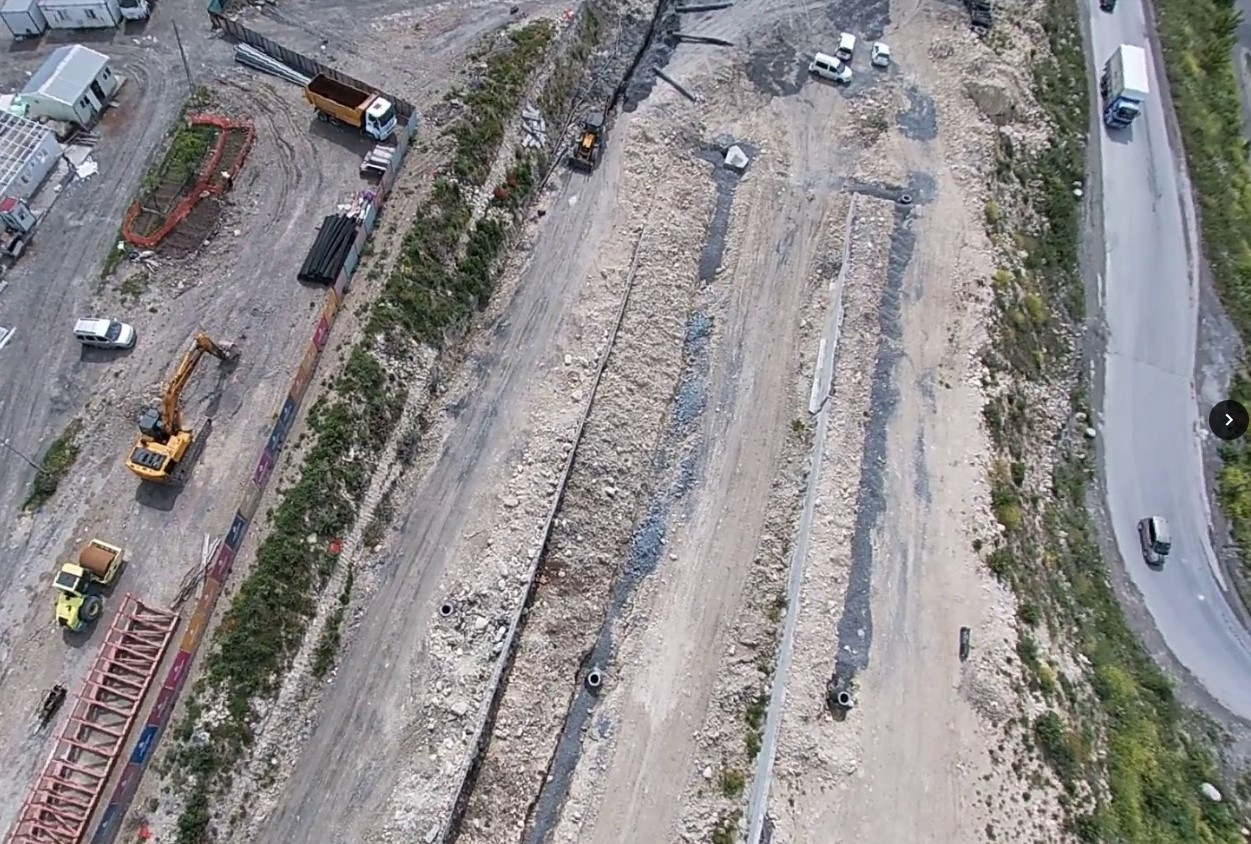araba: (72, 312, 134, 346), (1137, 510, 1173, 568), (808, 50, 856, 87), (839, 32, 862, 55), (874, 40, 894, 63)
ismakinasi: (122, 327, 240, 491)
kamyon: (306, 74, 400, 138), (1105, 39, 1148, 129)
traktor: (44, 533, 124, 632), (574, 109, 611, 173)
